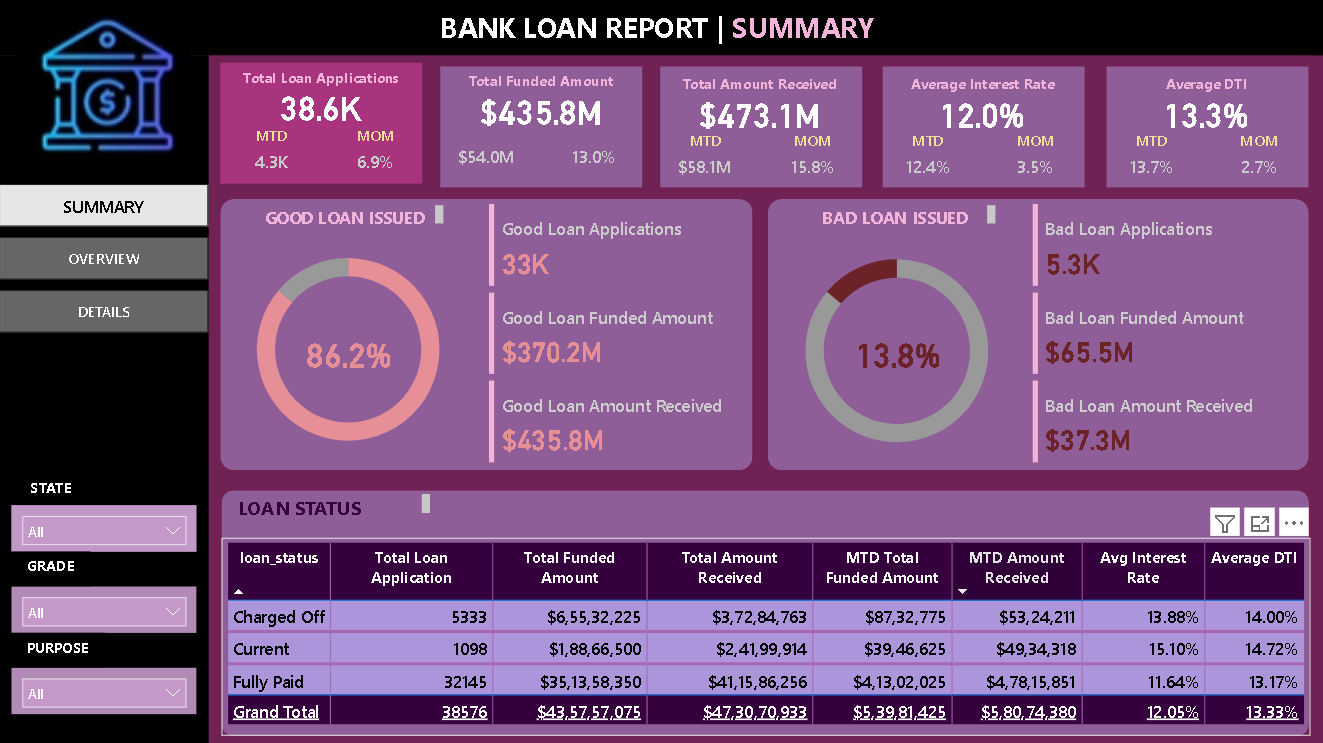

The page's visual inventory and layout, read from the dashboard file:
{"tool":"powerbi","page":{"name":"SUMMARY","canvas":[1280,720],"ordinal":0},"visuals":[{"type":"shape","box":[0,0,1280,54.3],"z":0},{"type":"shape","box":[213.2,62.1,194.9,116.6],"z":0,"group":"g3"},{"type":"shape","box":[426.7,64.8,194.9,116.6],"z":0,"group":"g4"},{"type":"shape","box":[638.1,64.8,194.9,116.6],"z":0,"group":"g5"},{"type":"shape","box":[852.6,64.8,194.9,116.6],"z":0,"group":"g6"},{"type":"shape","box":[1068.4,64.8,194.9,116.6],"z":0,"group":"g7"},{"type":"shape","box":[213.2,192.9,514,261.7],"z":0,"group":"g2"},{"type":"shape","box":[742,192.9,522.1,261.7],"z":0,"group":"g8"},{"type":"shape","box":[215.2,474.2,1049.6,237.4],"z":0,"group":"g1"},{"type":"card","fields":{"Values":["Bank_loan_data.Total Loan Application"]},"box":[213.2,62.1,194.9,85.1],"z":1000,"group":"g3"},{"type":"card","fields":{"Values":["Bank_loan_data.Total Funded Amount"]},"box":[426.7,64.8,194.9,85.1],"z":1000,"group":"g4"},{"type":"card","fields":{"Values":["Bank_loan_data.Total Amount Received"]},"box":[637.2,66.8,194.9,85.1],"z":1000,"group":"g5"},{"type":"card","fields":{"Values":["Bank_loan_data.Avg Interest Rate"]},"box":[851.7,66.8,194.9,85.1],"z":1000,"group":"g6"},{"type":"card","fields":{"Values":["Bank_loan_data.Average DTI"]},"box":[1067.5,66.8,194.9,85.1],"z":1000,"group":"g7"},{"type":"donutChart","fields":{"Category":["Bank_loan_data.Good vs Bad loan"],"Y":["Bank_loan_data.Total Loan Application"]},"box":[742,223.9,249.6,230.7],"z":1000,"group":"g8"},{"type":"card","fields":{"Values":["Bank_loan_data.Good Loan %"]},"box":[290.2,314.3,94.3,54],"z":1000,"group":"g2"},{"type":"group","id":"g1","title":"Group 3","box":[215.2,474.2,1049.6,237.4],"z":1000},{"type":"shape","box":[0,54.3,202.7,666],"z":1500,"group":"g9"},{"type":"textbox","box":[213.2,62.1,194.9,31.6],"z":2000,"group":"g3"},{"type":"textbox","box":[426.7,64.8,194.9,31.6],"z":2000,"group":"g4"},{"type":"textbox","box":[637.2,66.8,194.9,31.6],"z":2000,"group":"g5"},{"type":"textbox","box":[851.7,66.8,194.9,31.6],"z":2000,"group":"g6"},{"type":"textbox","box":[1067.5,66.8,194.9,31.6],"z":2000,"group":"g7"},{"type":"group","id":"g2","title":"Group 3","box":[213.2,192.9,514,261.7],"z":2000},{"type":"textbox","box":[242.4,194.2,191.3,29.7],"z":2000,"group":"g2"},{"type":"card","fields":{"Values":["Bank_loan_data.Bad Loan %"]},"box":[820.2,314.3,95.8,54],"z":2000,"group":"g8"},{"type":"card","title":"MTD","fields":{"Values":["Bank_loan_data.MTD Loan Application"]},"box":[213.6,123.2,98.8,54.9],"z":3000,"group":"g3"},{"type":"card","title":"MTD","fields":{"Values":["Bank_loan_data.MTD Funded Amount"]},"box":[426.3,125.9,89.2,54.9],"z":3000,"group":"g4"},{"type":"card","title":"MTD","fields":{"Values":["Bank_loan_data.MTD Received Amount"]},"box":[636.8,127.9,89.2,54.9],"z":3000,"group":"g5"},{"type":"card","title":"MTD","fields":{"Values":["Bank_loan_data.MTD Avg Interest Rate"]},"box":[851.3,127.9,89.2,54.9],"z":3000,"group":"g6"},{"type":"card","title":"MTD","fields":{"Values":["Bank_loan_data.MTD DTI"]},"box":[1067.1,127.9,89.2,54.9],"z":3000,"group":"g7"},{"type":"cardVisual","fields":{"Data":["Bank_loan_data.Good Loan Applications","Bank_loan_data.Good Loan Funded Amount","Bank_loan_data.Good Loan Amount Received"]},"box":[468.2,192.9,259,261.7],"z":3000,"group":"g2"},{"type":"textbox","box":[771.7,194.2,194.3,29.7],"z":3000,"group":"g8"},{"type":"donutChart","fields":{"Category":["Bank_loan_data.Good vs Bad loan"],"Y":["Bank_loan_data.Total Loan Application"]},"box":[214.7,223.2,244.9,230.4],"z":3000},{"type":"shape","box":[1265.6,42.2,14.5,12.1],"z":4000,"group":"g9"},{"type":"card","title":"MOM","fields":{"Values":["Bank_loan_data.MOM Loan Applications"]},"box":[317.9,123.2,89.2,54.9],"z":4000,"group":"g3"},{"type":"card","title":"MOM","fields":{"Values":["Bank_loan_data.MOM Total Funded Amount"]},"box":[529.4,125.9,91.9,54.9],"z":4000,"group":"g4"},{"type":"card","title":"MOM","fields":{"Values":["Bank_loan_data.MOM Total Amount Received"]},"box":[739.9,127.9,91.9,54.9],"z":4000,"group":"g5"},{"type":"card","title":"MOM","fields":{"Values":["Bank_loan_data.MOM total Received Amount"]},"box":[954.4,127.9,91.9,54.9],"z":4000,"group":"g6"},{"type":"card","title":"MOM","fields":{"Values":["Bank_loan_data.MOM DTI"]},"box":[1170.2,127.9,91.9,54.9],"z":4000,"group":"g7"},{"type":"cardVisual","fields":{"Data":["Bank_loan_data.Bad Loan Applications","Bank_loan_data.Bad Loan Funded Amount","Bank_loan_data.Bad Loan Amount Received"]},"box":[992.9,192.9,263.1,261.7],"z":4000,"group":"g8"},{"type":"textbox","box":[225.3,473.5,195.6,31],"z":4000},{"type":"textbox","box":[421.3,4.1,437.7,50.8],"z":5000},{"type":"group","id":"g3","title":"Group 1","box":[213.2,62.1,194.3,116],"z":6000},{"type":"group","id":"g4","title":"Group 1","box":[426.3,64.8,194.3,116],"z":7000},{"type":"group","id":"g5","title":"Group 1","box":[636.8,64.8,197,117.4],"z":8000},{"type":"group","id":"g6","title":"Group 1","box":[851.3,64.8,197,117.4],"z":9000},{"type":"group","id":"g7","title":"Group 1","box":[1067.1,64.8,197,117.4],"z":10000},{"type":"group","id":"g8","title":"Group 2","box":[742,192.9,522.1,261.7],"z":11000},{"type":"tableEx","fields":{"Values":["Bank_loan_data.loan_status","Bank_loan_data.Total Loan Application","Bank_loan_data.Total Funded Amount","Bank_loan_data.Total Amount Received","Bank_loan_data.MTD Total Funded Amount","Bank_loan_data.MTD Amount Received","Bank_loan_data.Avg Interest Rate","Bank_loan_data.Average DTI"]},"box":[214.5,519.4,1050.9,191.6],"z":12000},{"type":"group","id":"g9","title":"Group 4","box":[0,42.2,1280,678],"z":13000},{"type":"slicer","fields":{"Values":["Bank_loan_data.address_state"]},"box":[12.1,488.6,178.6,44.6],"z":14000},{"type":"textbox","box":[25.3,457.2,76,33.8],"z":14002,"group":"g9"},{"type":"slicer","fields":{"Values":["Bank_loan_data.address_state"]},"box":[12.1,488.6,178.6,44.6],"z":14500,"group":"g9"},{"type":"slicer","fields":{"Values":["Bank_loan_data.grade"]},"box":[12.1,567,178.6,44.6],"z":15000},{"type":"textbox","box":[12.1,533.2,76,33.8],"z":16000},{"type":"slicer","fields":{"Values":["Bank_loan_data.purpose"]},"box":[12.1,645.4,178.6,44.6],"z":17000},{"type":"textbox","box":[12.1,611.7,89.3,33.8],"z":18000},{"type":"image","box":[0,0,202.7,179.8],"z":19000},{"type":"pageNavigator","box":[0,178.6,202.7,144.8],"z":20000}]}

Visuals, with their boxes in screenshot pixels (x1, y1, x2, y2), scaled from the page's 1280x720 canvas onto the 1323x743 screenshot:
shape: select_region(0, 0, 1322, 56)
shape: select_region(220, 64, 422, 184)
shape: select_region(441, 67, 642, 187)
shape: select_region(660, 67, 861, 187)
shape: select_region(881, 67, 1083, 187)
shape: select_region(1104, 67, 1306, 187)
shape: select_region(220, 199, 752, 469)
shape: select_region(767, 199, 1307, 469)
shape: select_region(222, 489, 1307, 734)
card - Bank_loan_data.Total Loan Application: select_region(220, 64, 422, 152)
card - Bank_loan_data.Total Funded Amount: select_region(441, 67, 642, 155)
card - Bank_loan_data.Total Amount Received: select_region(659, 69, 860, 157)
card - Bank_loan_data.Avg Interest Rate: select_region(880, 69, 1082, 157)
card - Bank_loan_data.Average DTI: select_region(1103, 69, 1305, 157)
donutChart - Bank_loan_data.Good vs Bad loan x Bank_loan_data.Total Loan Application: select_region(767, 231, 1025, 469)
card - Bank_loan_data.Good Loan %: select_region(300, 324, 397, 380)
"Group 3" group: select_region(222, 489, 1307, 734)
shape: select_region(0, 56, 210, 742)
textbox: select_region(220, 64, 422, 97)
textbox: select_region(441, 67, 642, 99)
textbox: select_region(659, 69, 860, 102)
textbox: select_region(880, 69, 1082, 102)
textbox: select_region(1103, 69, 1305, 102)
"Group 3" group: select_region(220, 199, 752, 469)
textbox: select_region(251, 200, 448, 231)
card - Bank_loan_data.Bad Loan %: select_region(848, 324, 947, 380)
"MTD" card: select_region(221, 127, 323, 184)
"MTD" card: select_region(441, 130, 533, 187)
"MTD" card: select_region(658, 132, 750, 189)
"MTD" card: select_region(880, 132, 972, 189)
"MTD" card: select_region(1103, 132, 1195, 189)
cardVisual - Bank_loan_data.Good Loan Applications x Bank_loan_data.Good Loan Funded Amount: select_region(484, 199, 752, 469)
textbox: select_region(798, 200, 998, 231)
donutChart - Bank_loan_data.Good vs Bad loan x Bank_loan_data.Total Loan Application: select_region(222, 230, 475, 468)
shape: select_region(1308, 44, 1322, 56)
"MOM" card: select_region(329, 127, 421, 184)
"MOM" card: select_region(547, 130, 642, 187)
"MOM" card: select_region(765, 132, 860, 189)
"MOM" card: select_region(986, 132, 1081, 189)
"MOM" card: select_region(1210, 132, 1304, 189)
cardVisual - Bank_loan_data.Bad Loan Applications x Bank_loan_data.Bad Loan Funded Amount: select_region(1026, 199, 1298, 469)
textbox: select_region(233, 489, 435, 521)
textbox: select_region(435, 4, 888, 57)
"Group 1" group: select_region(220, 64, 421, 184)
"Group 1" group: select_region(441, 67, 641, 187)
"Group 1" group: select_region(658, 67, 862, 188)
"Group 1" group: select_region(880, 67, 1084, 188)
"Group 1" group: select_region(1103, 67, 1307, 188)
"Group 2" group: select_region(767, 199, 1307, 469)
tableEx - Bank_loan_data.loan_status x Bank_loan_data.Total Loan Application: select_region(222, 536, 1308, 734)
"Group 4" group: select_region(0, 44, 1322, 742)
slicer - Bank_loan_data.address_state: select_region(13, 504, 197, 550)
textbox: select_region(26, 472, 105, 507)
slicer - Bank_loan_data.address_state: select_region(13, 504, 197, 550)
slicer - Bank_loan_data.grade: select_region(13, 585, 197, 631)
textbox: select_region(13, 550, 91, 585)
slicer - Bank_loan_data.purpose: select_region(13, 666, 197, 712)
textbox: select_region(13, 631, 105, 666)
image: select_region(0, 0, 210, 186)
pageNavigator: select_region(0, 184, 210, 334)
